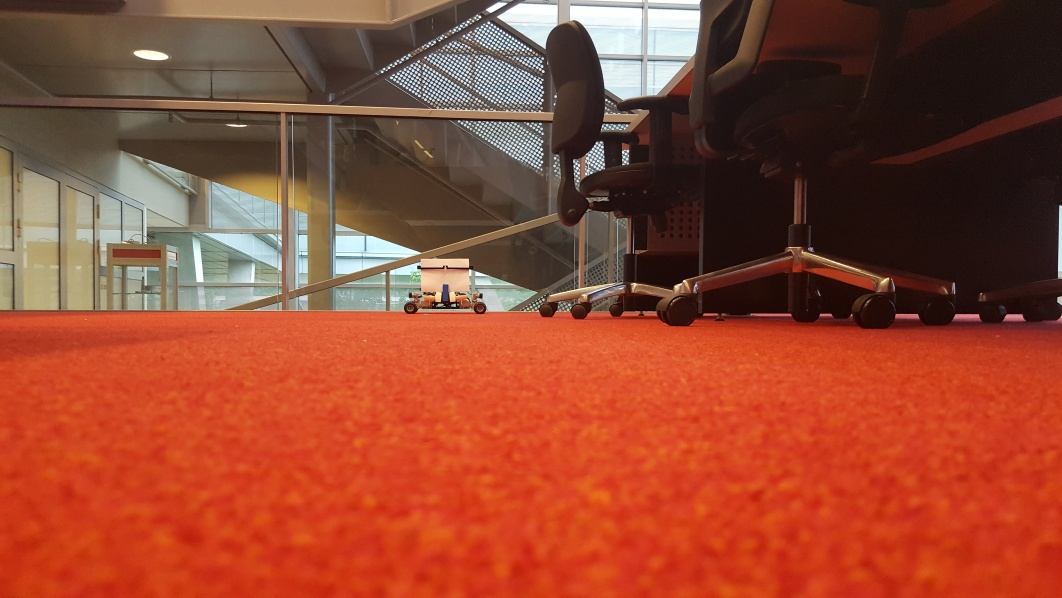car: (404, 255, 487, 315)
